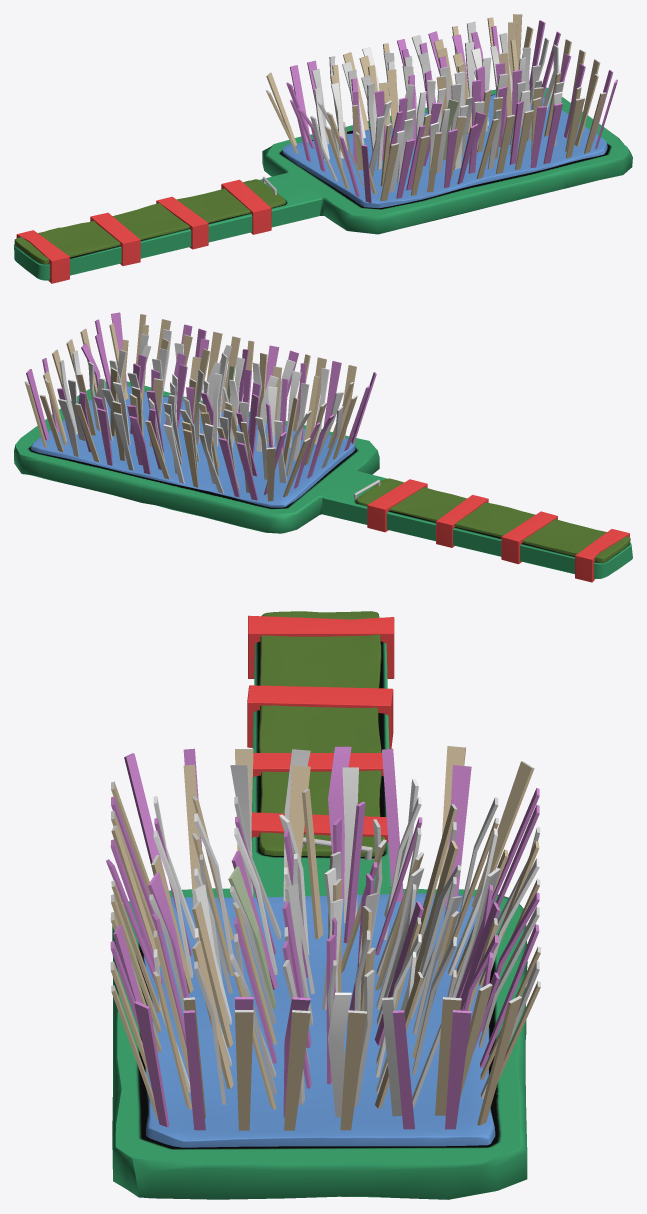
File: bath4.glb
3 renders of one model, top to bottom at view 1: azimuth 30°, elevation 25°; view 2: azimuth 150°, elevation 25°; view 3: azimuth 270°, elevation 25°, orthographic. The views are drawn at different scales.
Visible parts, largest first — view 1: node_id344; view 2: node_id344; view 3: node_id344.
Part boxes in pixels (x1,y1,x2,y2): node_id344: (14, 14, 632, 283); node_id344: (14, 312, 632, 582); node_id344: (106, 611, 541, 1199).
Size of the model in its own units: 0.512 by 0.0794 by 0.1709.
Materials: 1 (1 with a texture image).
